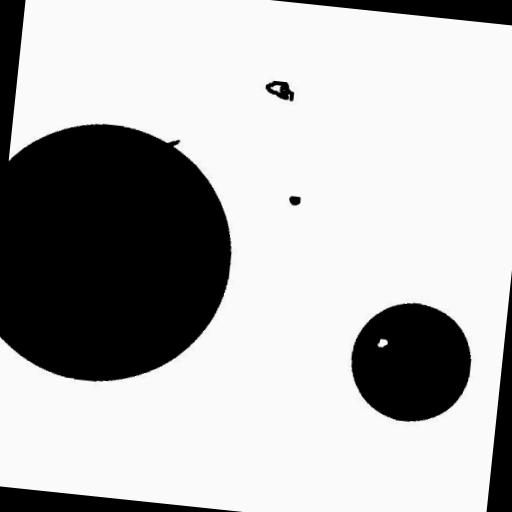copper: (256, 72, 303, 110), (280, 187, 309, 214)
pin-hole: (369, 330, 396, 355)
spur: (160, 130, 188, 156)
